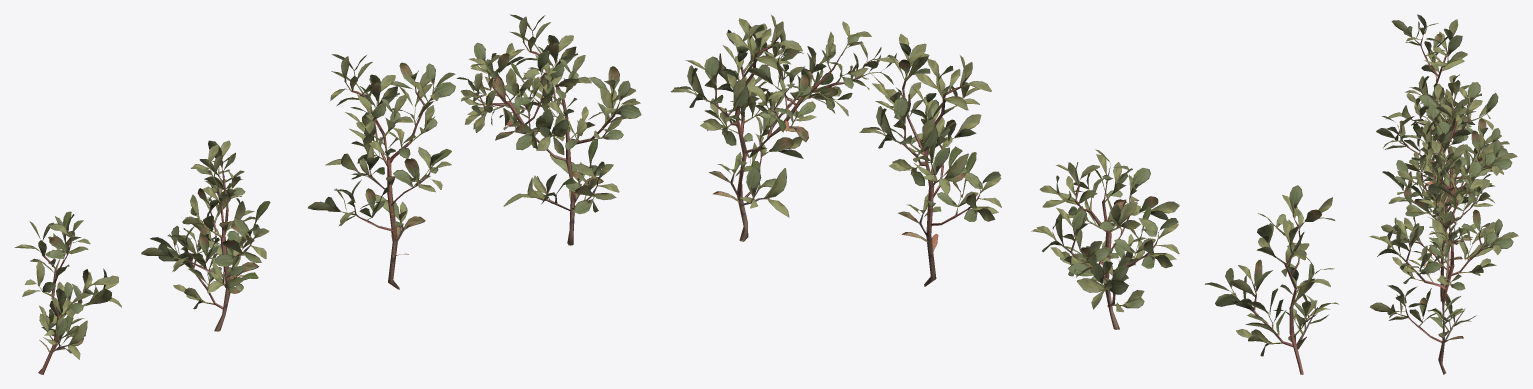
Rendered from shrub_04.glb.
3 views of the same model, side by side, from view 1: azimuth 30°, elevation 25°; view 2: azimuth 150°, elevation 25°; view 3: azimuth 270°, elevation 25° (orthographic). The views are drawn at different scales.
Visible parts, largest first — view 1: shrub_04; view 2: shrub_04; view 3: shrub_04.
Boxes of the visible parts, x1,y1,x2,y2 form: shrub_04: [14, 14, 641, 374]; shrub_04: [670, 15, 1339, 374]; shrub_04: [1369, 14, 1518, 374].
Size of the model in its own units: 0.5831 by 0.2186 by 0.1459.
1 material, 1 textured.
